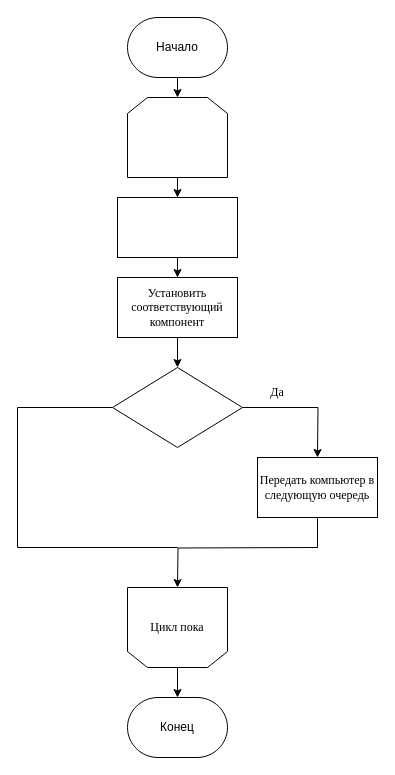
Some shapes in this 395 by 775 pixel diagram are drawn without their labels. Each missing label, with the centre of its shape:
Извлечь компьютер из очереди: the point at 177,227
Пока предыдущие конвейеры не закончили и очередь не пуста: the point at 177,137
Это установщик м.п. или процессора?: the point at 177,407
